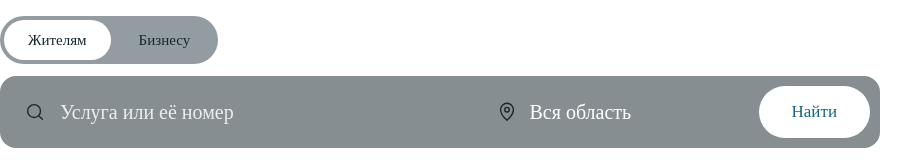
Test case: HomeSearch › starts with residents selected and lets the visitor switch to business
Expected: the radio button labelled "Жителям" is checked, [4,20,111,60]
Click the radio button labelled "Бизнесу". click: x=164, y=40
box: [139,32,190,48]
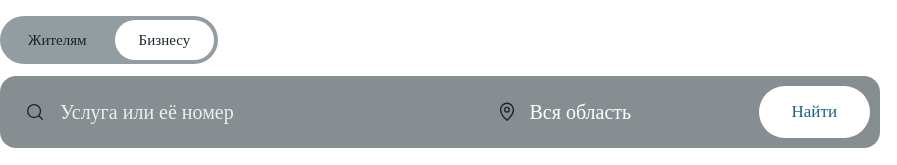
Expected: the radio button labelled "Бизнесу" is checked, [115,20,214,60]
Expected: the radio button labelled "Жителям" is not checked, [28,32,87,48]
